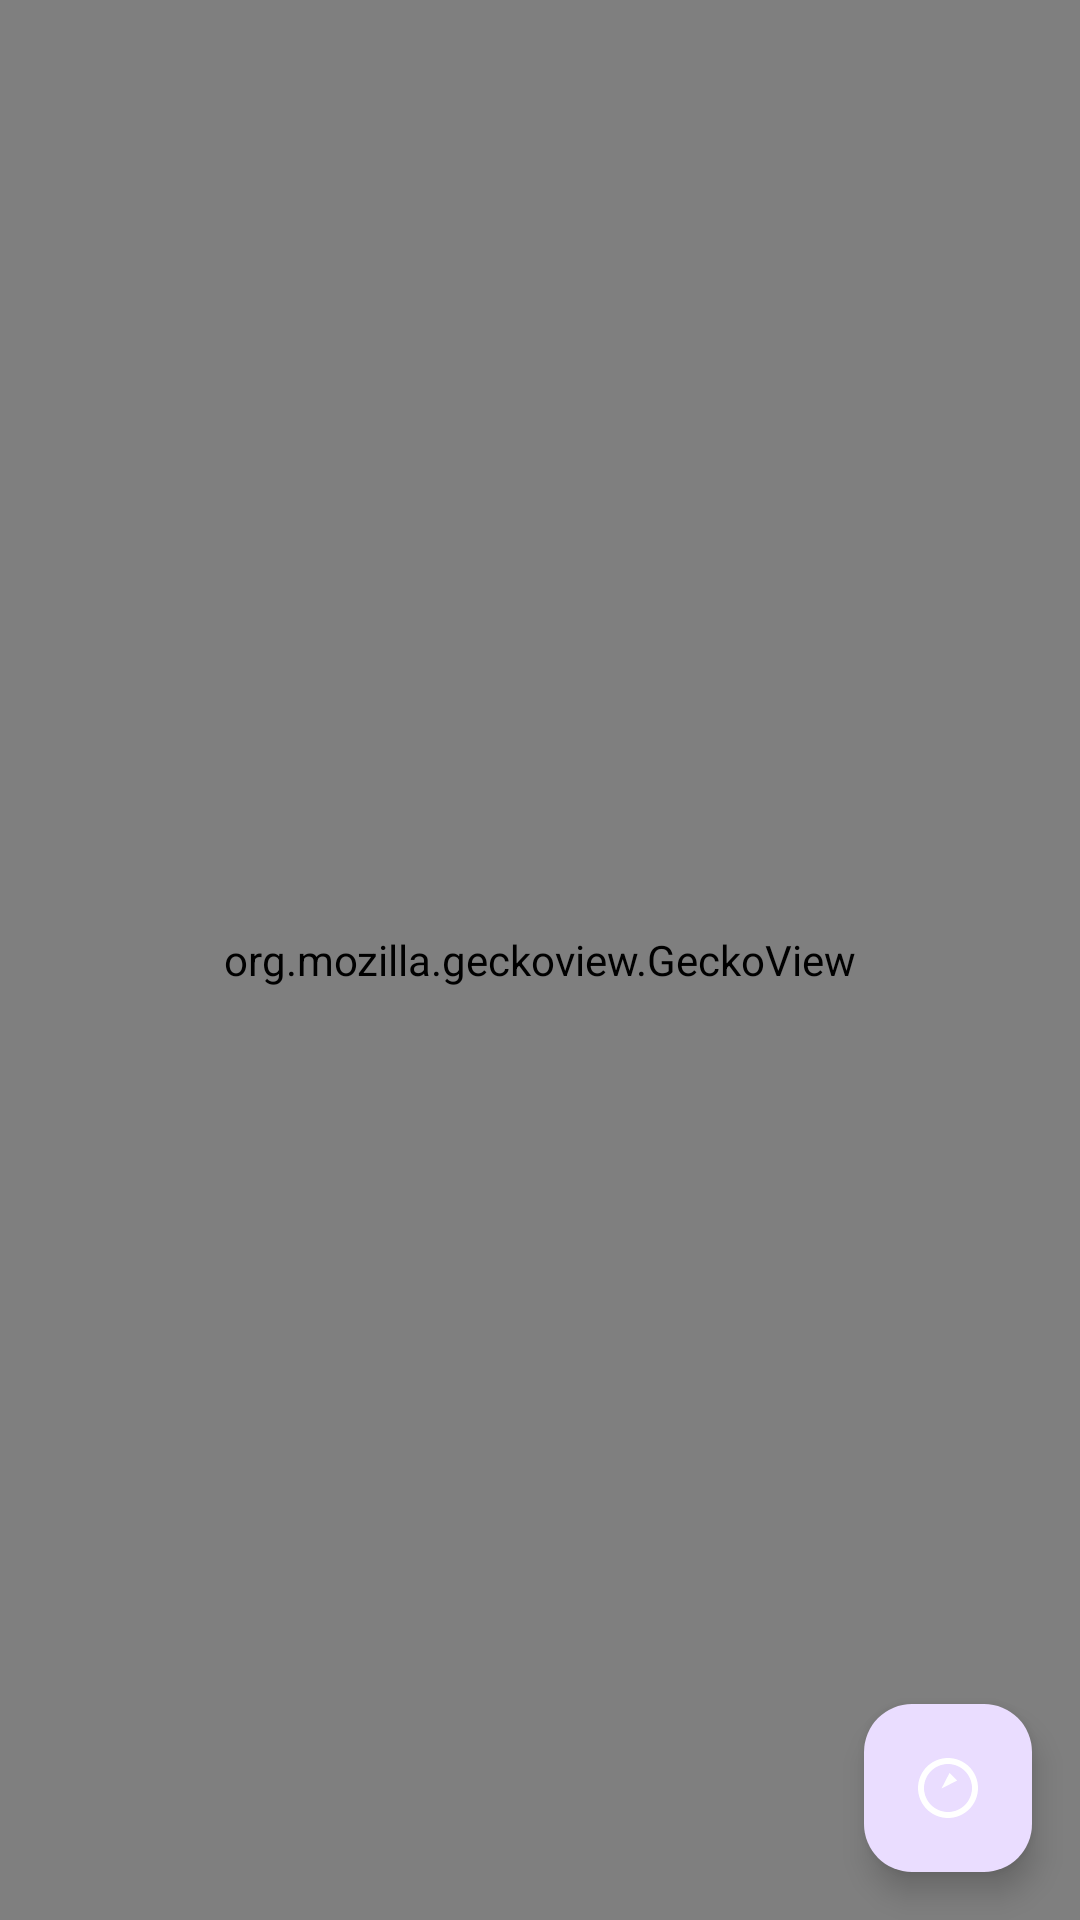

Icons on this 1080w x 1920h Android screen, each with its box as bbox=[x1, y1, x2, y2]:
Navigation button: bbox=[864, 1704, 1032, 1872]
